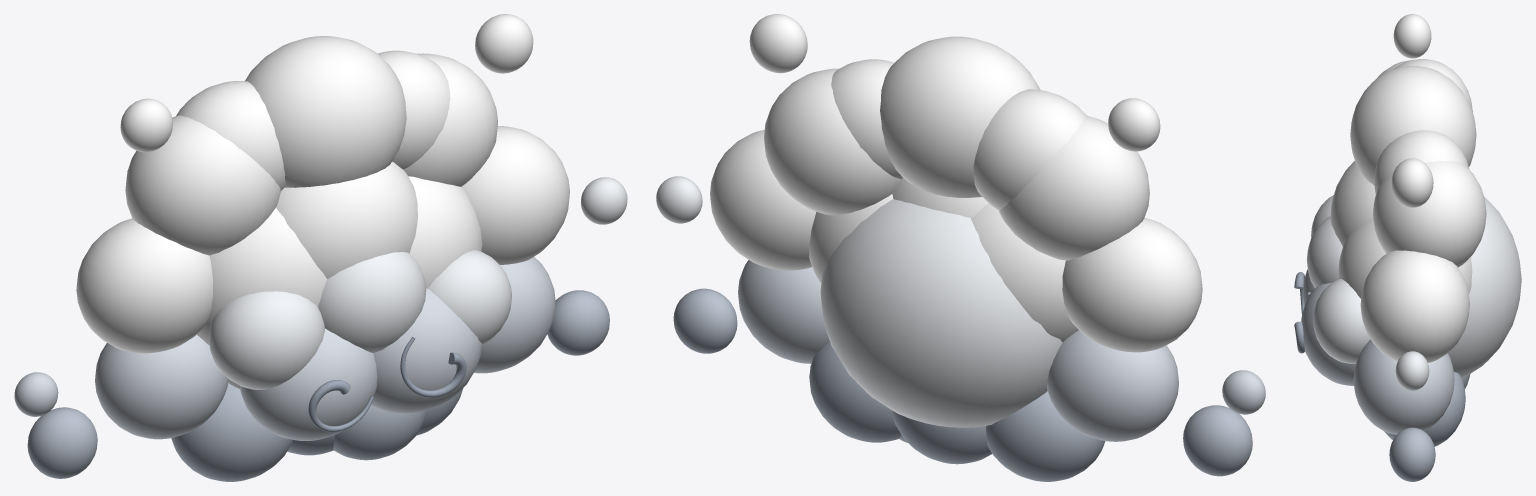
Rendered from smoke_puff.glb.
3 views of the same model, side by side, from view 1: azimuth 30°, elevation 25°; view 2: azimuth 150°, elevation 25°; view 3: azimuth 270°, elevation 25° (orthographic). The views are drawn at different scales.
Visible parts, largest first — view 1: smoke_puff; view 2: smoke_puff; view 3: smoke_puff.
Boxes of the visible parts, <box> form: smoke_puff: <box>14,14,627,481</box>; smoke_puff: <box>656,14,1265,481</box>; smoke_puff: <box>1294,14,1521,481</box>.
Size of the model in its own units: 1 by 0.6544 by 0.3969.
